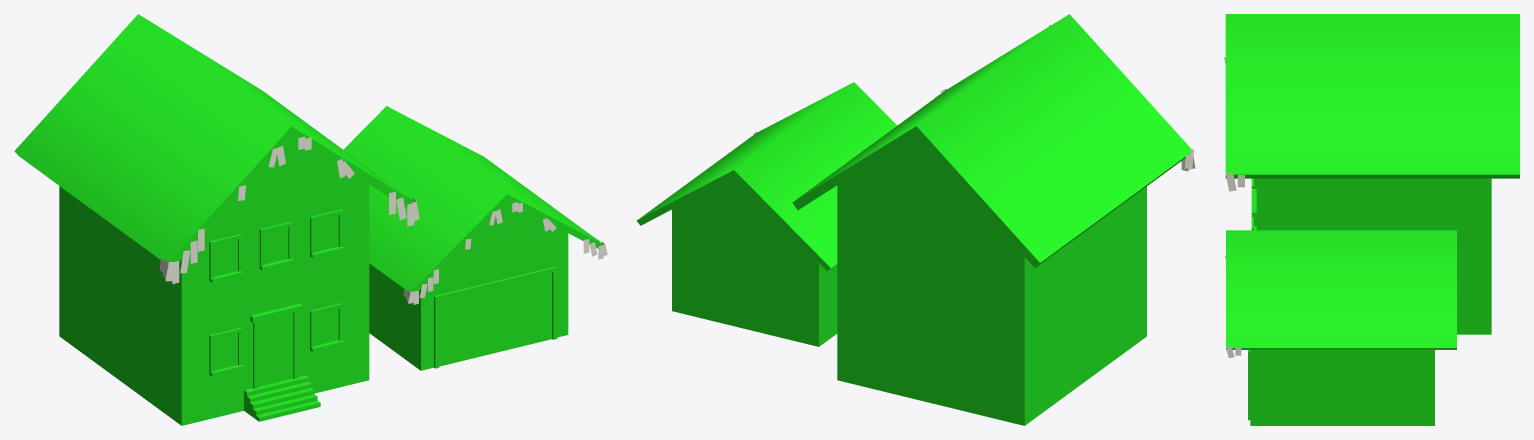
File: HouseFBX.FBX
3 renders of one model, left to right at view 1: azimuth 30°, elevation 25°; view 2: azimuth 150°, elevation 25°; view 3: azimuth 270°, elevation 25°, orthographic. The views are drawn at different scales.
Visible parts, largest first — view 1: House, Snow; view 2: House; view 3: House, Snow.
Part boxes in pixels (left/top/right/bottom): House: left=14, top=14, right=603, bottom=425; Snow: left=159, top=136, right=607, bottom=304; House: left=636, top=14, right=1191, bottom=425; House: left=1225, top=14, right=1519, bottom=425; Snow: left=1224, top=57, right=1244, bottom=357.
Bounding box in the file's own units: 282 × 175 × 170.
